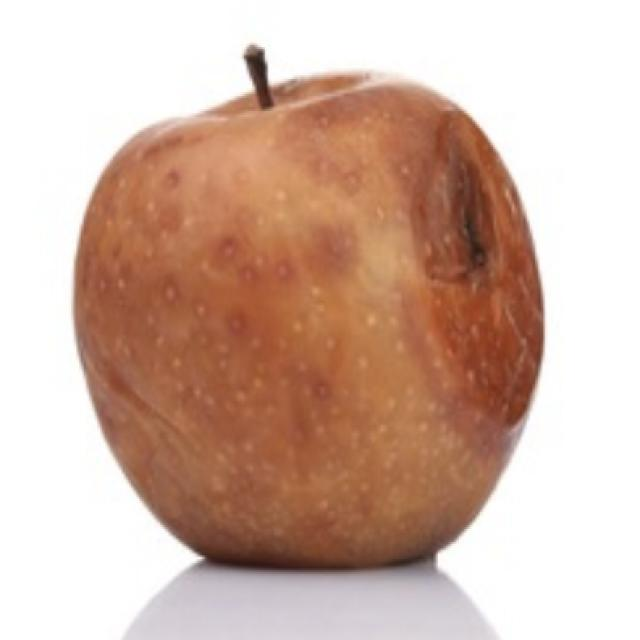Rotten: (100, 99, 588, 558)
